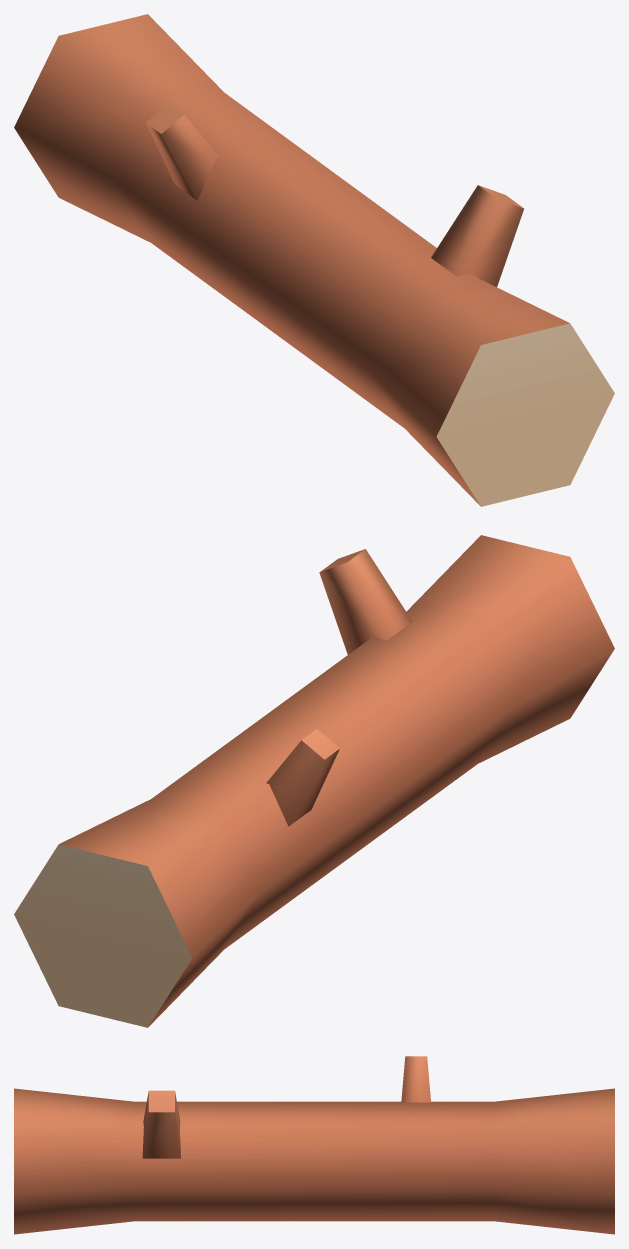
The model's file is tree-log.glb.
The picture shows the model from 3 angles, top to bottom: view 1: azimuth 30°, elevation 25°; view 2: azimuth 150°, elevation 25°; view 3: azimuth 270°, elevation 25°; orthographic projection. The views are drawn at different scales.
Visible parts, largest first — view 1: tree-log; view 2: tree-log; view 3: tree-log.
Boxes of the visible parts, x1=… form: tree-log: x1=14, y1=14, x2=614, y2=506; tree-log: x1=14, y1=535, x2=614, y2=1027; tree-log: x1=14, y1=1056, x2=614, y2=1234.
Size of the model in its own units: 0.2495 by 0.2771 by 1.
Materials: 1 (1 with a texture image).
